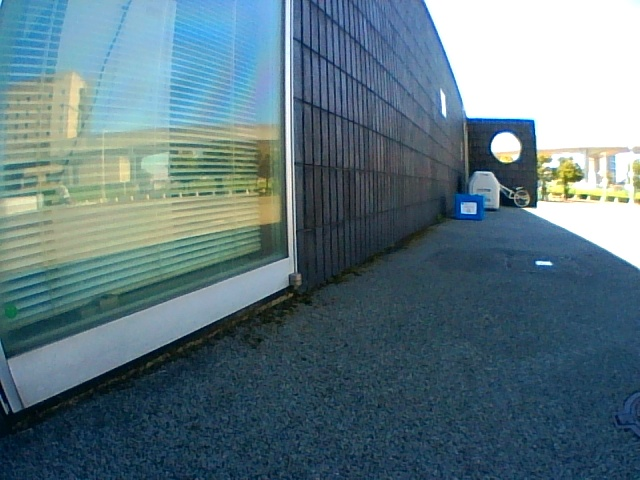blue_box: (455, 193, 485, 220)
tag: (461, 202, 476, 213)
